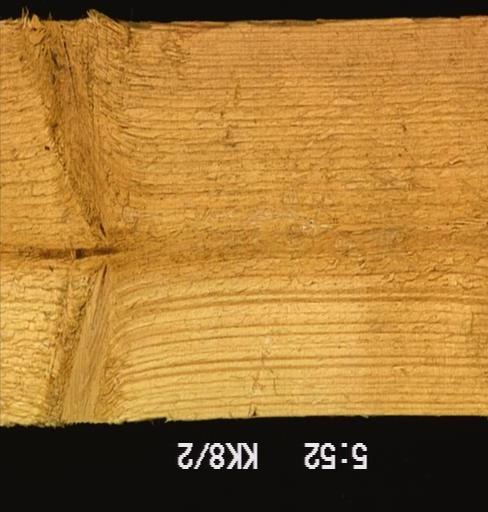wave: (127, 17, 326, 31)
